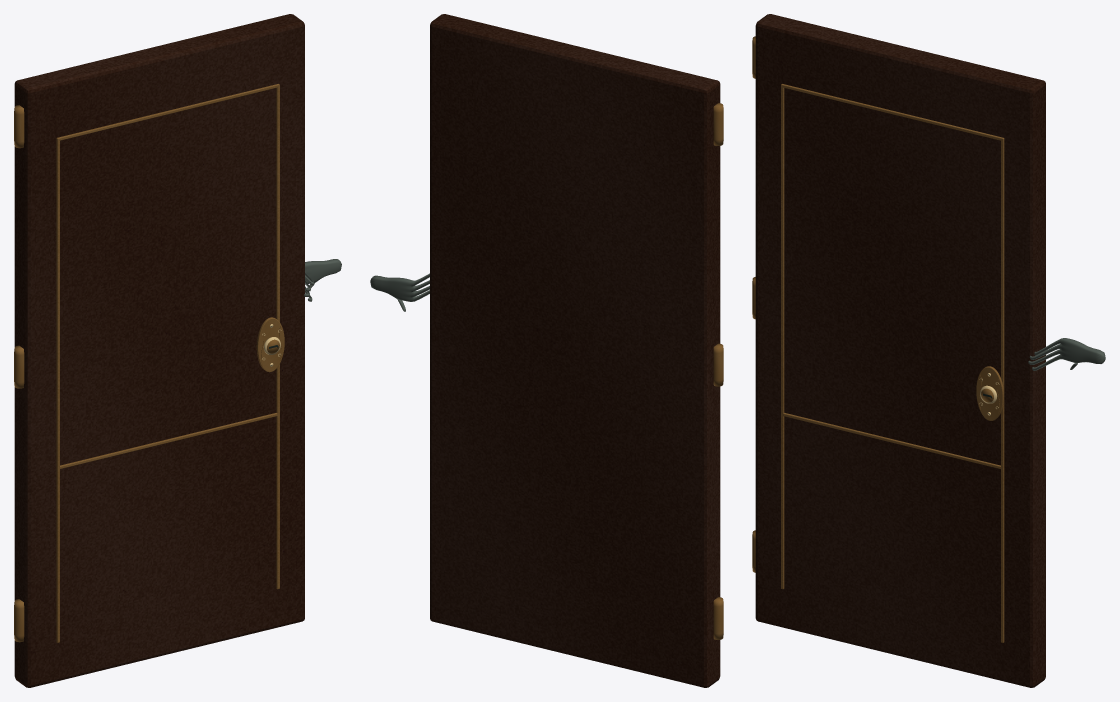
File: threshold-door.glb
3 views of the same model, side by side, from view 1: azimuth 30°, elevation 25°; view 2: azimuth 150°, elevation 25°; view 3: azimuth 330°, elevation 25° (orthographic).
Visible parts, largest first — view 1: Threshold thick door, Key_Threshold_Door / Aged brass / Key_door_hinge, Key_Threshold_Door / Aged brass / Key_lock_mount, Key_closing_glove; view 2: Threshold thick door, Key_Threshold_Door / Aged brass / Key_door_hinge, Key_closing_glove; view 3: Threshold thick door, Key_Threshold_Door / Aged brass / Key_door_hinge, Key_closing_glove, Key_Threshold_Door / Aged brass / Key_lock_mount.
Boxes of the visible parts, <box> form: Threshold thick door: <box>14,14,304,687</box>; Key_Threshold_Door / Aged brass / Key_door_hinge: <box>14,84,279,642</box>; Key_Threshold_Door / Aged brass / Key_lock_mount: <box>256,317,284,372</box>; Key_closing_glove: <box>304,259,341,301</box>; Threshold thick door: <box>430,14,720,687</box>; Key_Threshold_Door / Aged brass / Key_door_hinge: <box>713,103,723,639</box>; Key_closing_glove: <box>370,273,429,311</box>; Threshold thick door: <box>755,14,1045,687</box>; Key_Threshold_Door / Aged brass / Key_door_hinge: <box>752,36,1004,642</box>; Key_closing_glove: <box>1028,338,1105,370</box>; Key_Threshold_Door / Aged brass / Key_lock_mount: <box>976,366,1004,420</box>.
Size of the model in its own units: 1.38 by 2.32 by 0.1915.
Materials: 6 (3 with a texture image).
